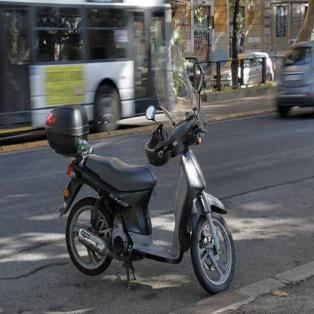Motocicleta: (38, 64, 237, 295)
